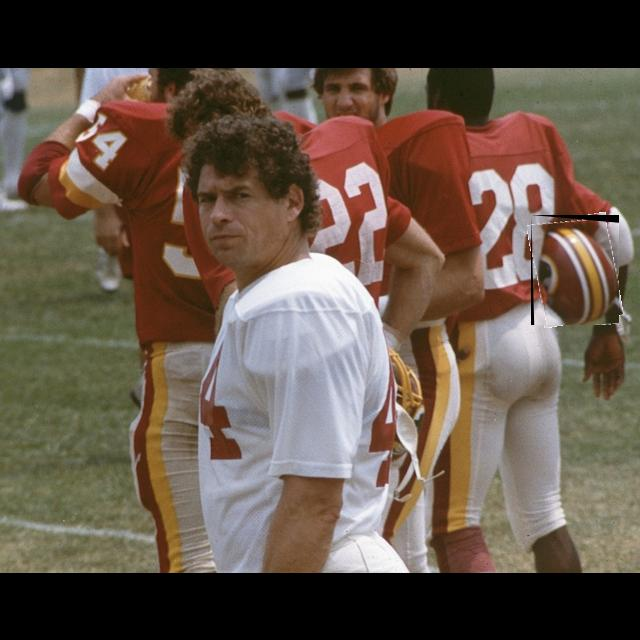Football: (531, 215, 619, 325)
